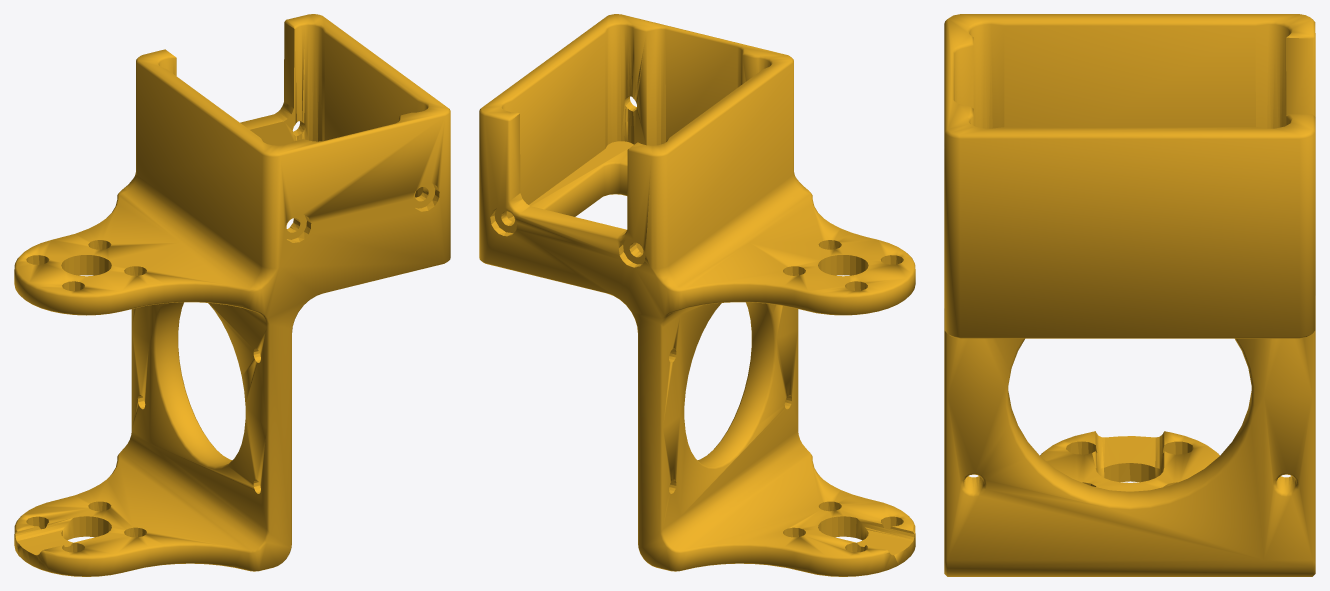
The model's file is left_arm_link1_arm.dae.
3 views of the same model, side by side, from view 1: azimuth 30°, elevation 25°; view 2: azimuth 150°, elevation 25°; view 3: azimuth 270°, elevation 25° (orthographic). The views are drawn at different scales.
Parts seen in each view (by area): view 1: node; view 2: node; view 3: node.
Boxes of the visible parts, box(x1,y1,x2,y2) form: node: box(14, 14, 450, 576); node: box(479, 14, 915, 576); node: box(944, 14, 1315, 576).
Bounding box in the file's own units: 0.058 × 0.038 × 0.063.
